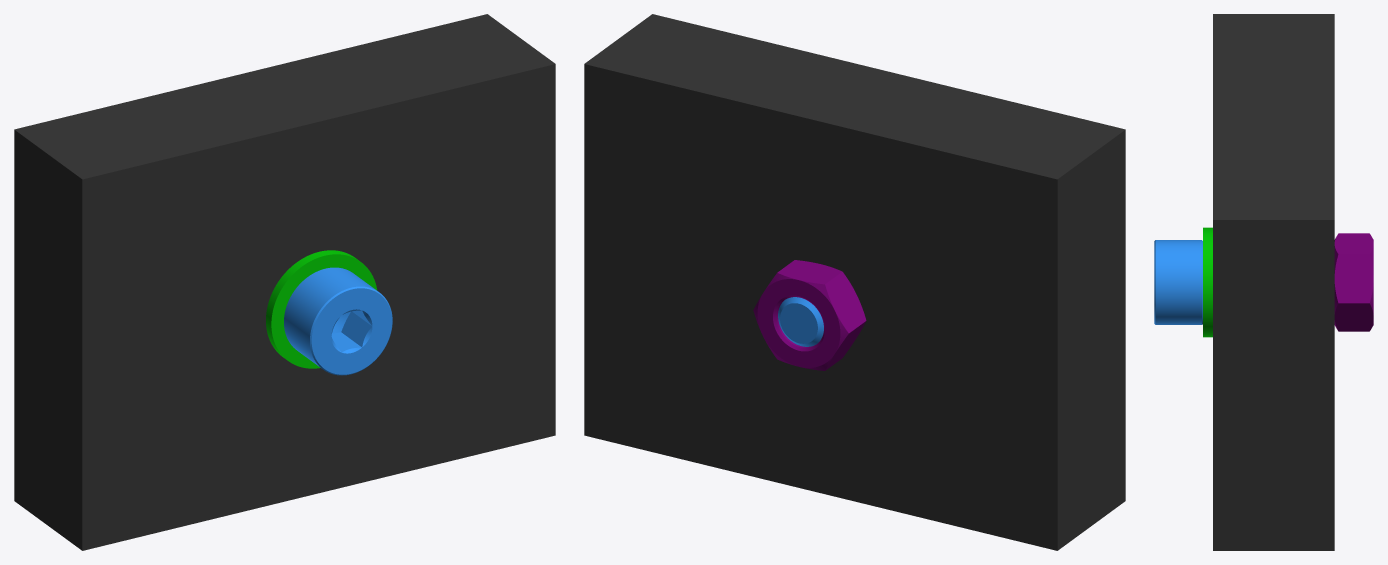
The model's file is assembly.glb.
3 renders of one model, left to right at view 1: azimuth 30°, elevation 25°; view 2: azimuth 150°, elevation 25°; view 3: azimuth 270°, elevation 25°, orthographic. The views are drawn at different scales.
Parts seen in each view (by area): view 1: plate-top/plate/body, plate-bottom/plate/body, screw/ISO4762-M4-14/body, washer/ISO7089-M4/body; view 2: plate-bottom/plate/body, plate-top/plate/body, nut/ISO4032-M4/body, screw/ISO4762-M4-14/body; view 3: plate-bottom/plate/body, plate-top/plate/body, screw/ISO4762-M4-14/body, nut/ISO4032-M4/body, washer/ISO7089-M4/body.
Boxes of the visible parts, x1,y1,x2,y2 form: plate-top/plate/body: (48,39,555,550); plate-bottom/plate/body: (14,14,520,525); screw/ISO4762-M4-14/body: (284,267,392,375); washer/ISO7089-M4/body: (266,250,377,368); plate-bottom/plate/body: (584,39,1091,550); plate-top/plate/body: (619,14,1125,525); nut/ISO4032-M4/body: (753,260,866,370); screw/ISO4762-M4-14/body: (778,297,823,346); plate-bottom/plate/body: (1273,14,1334,550); plate-top/plate/body: (1213,14,1273,550); screw/ISO4762-M4-14/body: (1154,240,1202,324); nut/ISO4032-M4/body: (1334,233,1373,331); washer/ISO7089-M4/body: (1203,227,1212,337).
Bounding box in the file's own units: 0.04 × 0.03 × 0.018.
